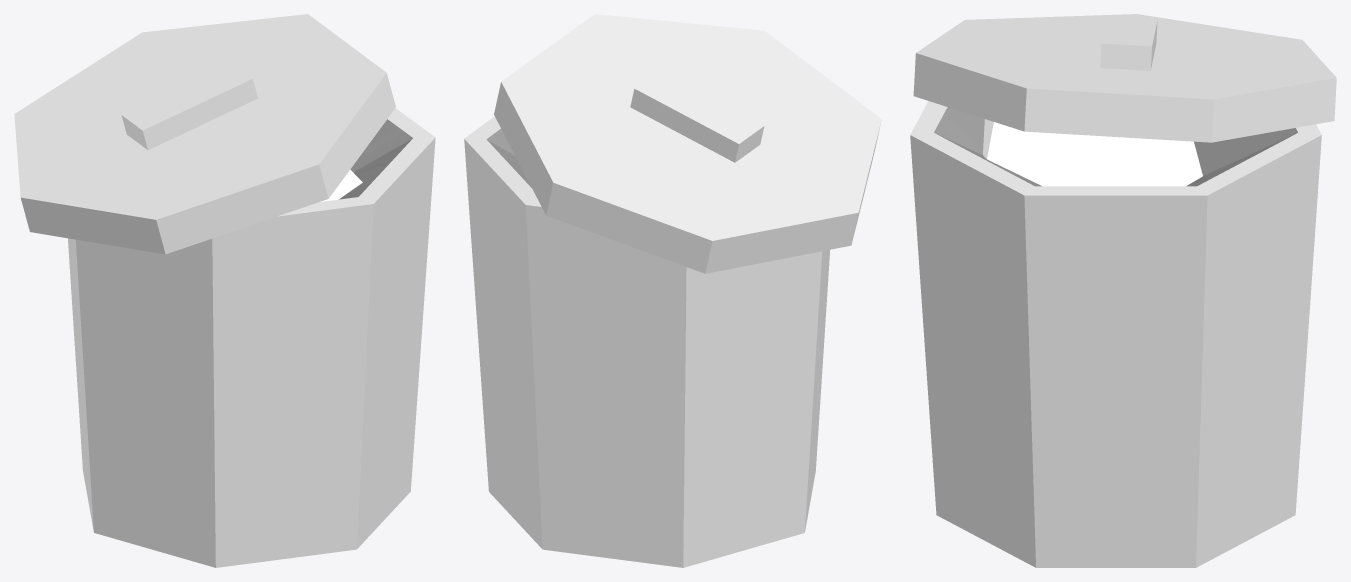
Rendered from trash.001.glb.
3 views of the same model, side by side, from view 1: azimuth 30°, elevation 25°; view 2: azimuth 150°, elevation 25°; view 3: azimuth 270°, elevation 25° (orthographic). The views are drawn at different scales.
Visible parts, largest first — view 1: trash.001(Clone); view 2: trash.001(Clone); view 3: trash.001(Clone).
Boxes of the visible parts, left/top/right/bottom form: trash.001(Clone): left=14, top=14, right=435, bottom=567; trash.001(Clone): left=464, top=14, right=881, bottom=567; trash.001(Clone): left=910, top=14, right=1336, bottom=567.
Bounding box in the file's own units: 0.8711 × 0.9833 × 0.8185.
1 material, 1 textured.
